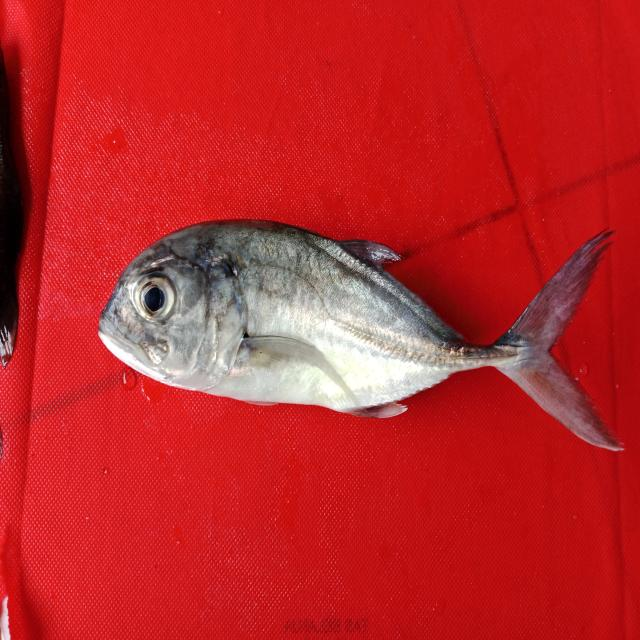ikan: (97, 215, 625, 452)
